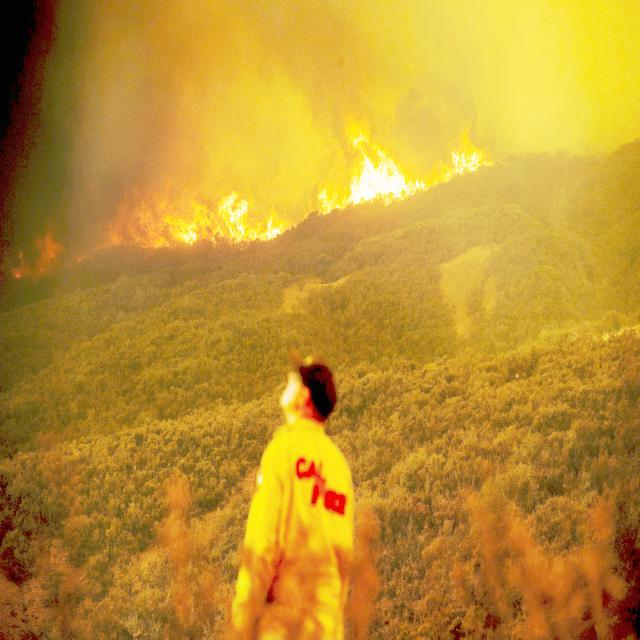api: (318, 131, 484, 219), (157, 200, 295, 248)
asap: (463, 16, 638, 171), (167, 26, 310, 192)
